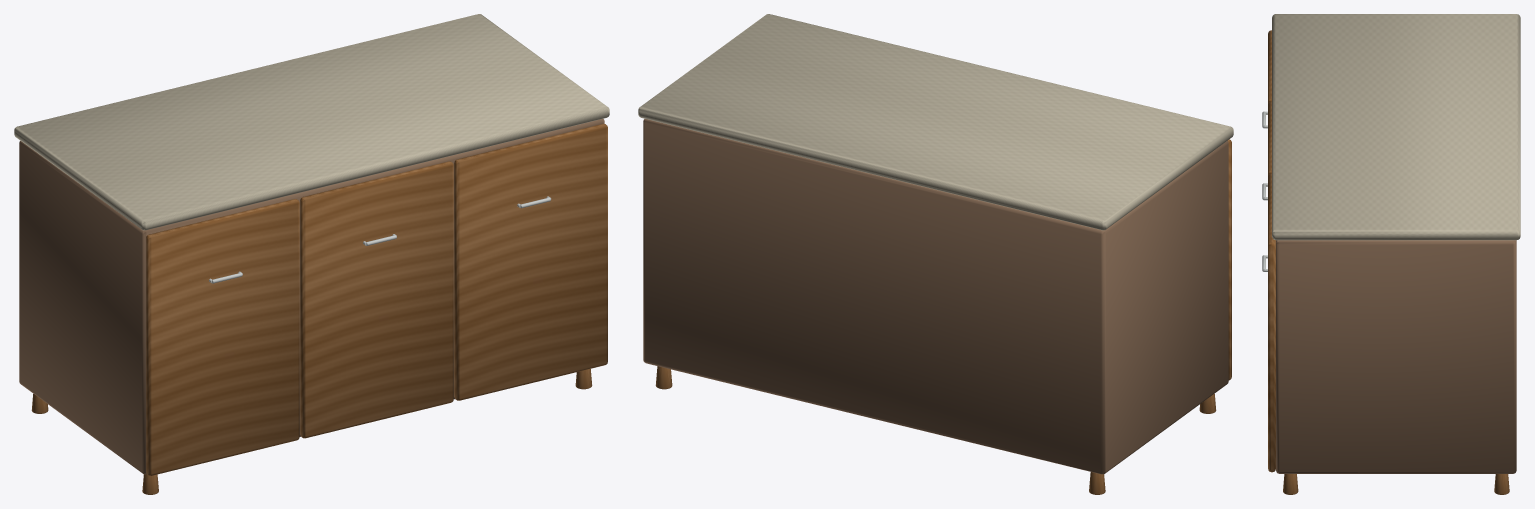
Rendered from island.glb.
3 renders of one model, left to right at view 1: azimuth 30°, elevation 25°; view 2: azimuth 150°, elevation 25°; view 3: azimuth 270°, elevation 25°, orthographic. The views are drawn at different scales.
Visible parts, largest first — view 1: island-mesh; view 2: island-mesh; view 3: island-mesh.
Part boxes in pixels (x1,y1,x2,y2): island-mesh: [14, 14, 609, 494]; island-mesh: [638, 14, 1233, 494]; island-mesh: [1262, 14, 1520, 494].
Size of the model in its own units: 1.6 by 0.92 by 0.8.
4 materials, 2 textured.
